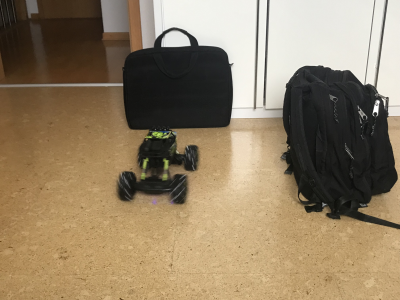remote control car: (115, 125, 200, 207)
